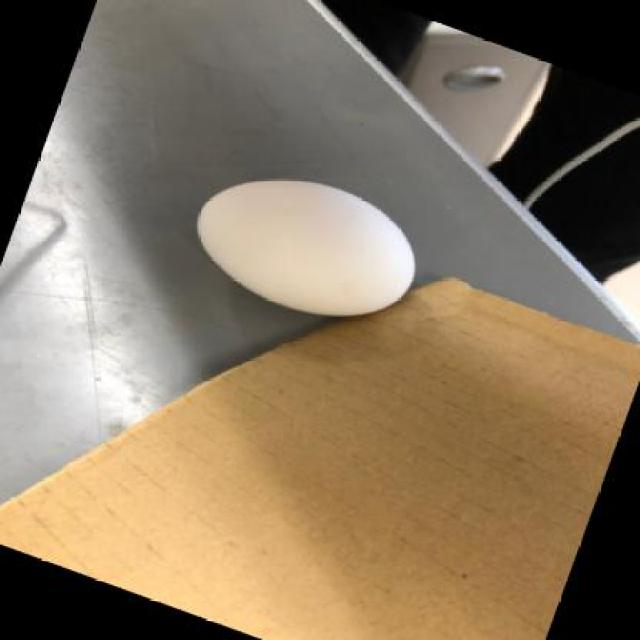egg: (197, 166, 422, 322)
